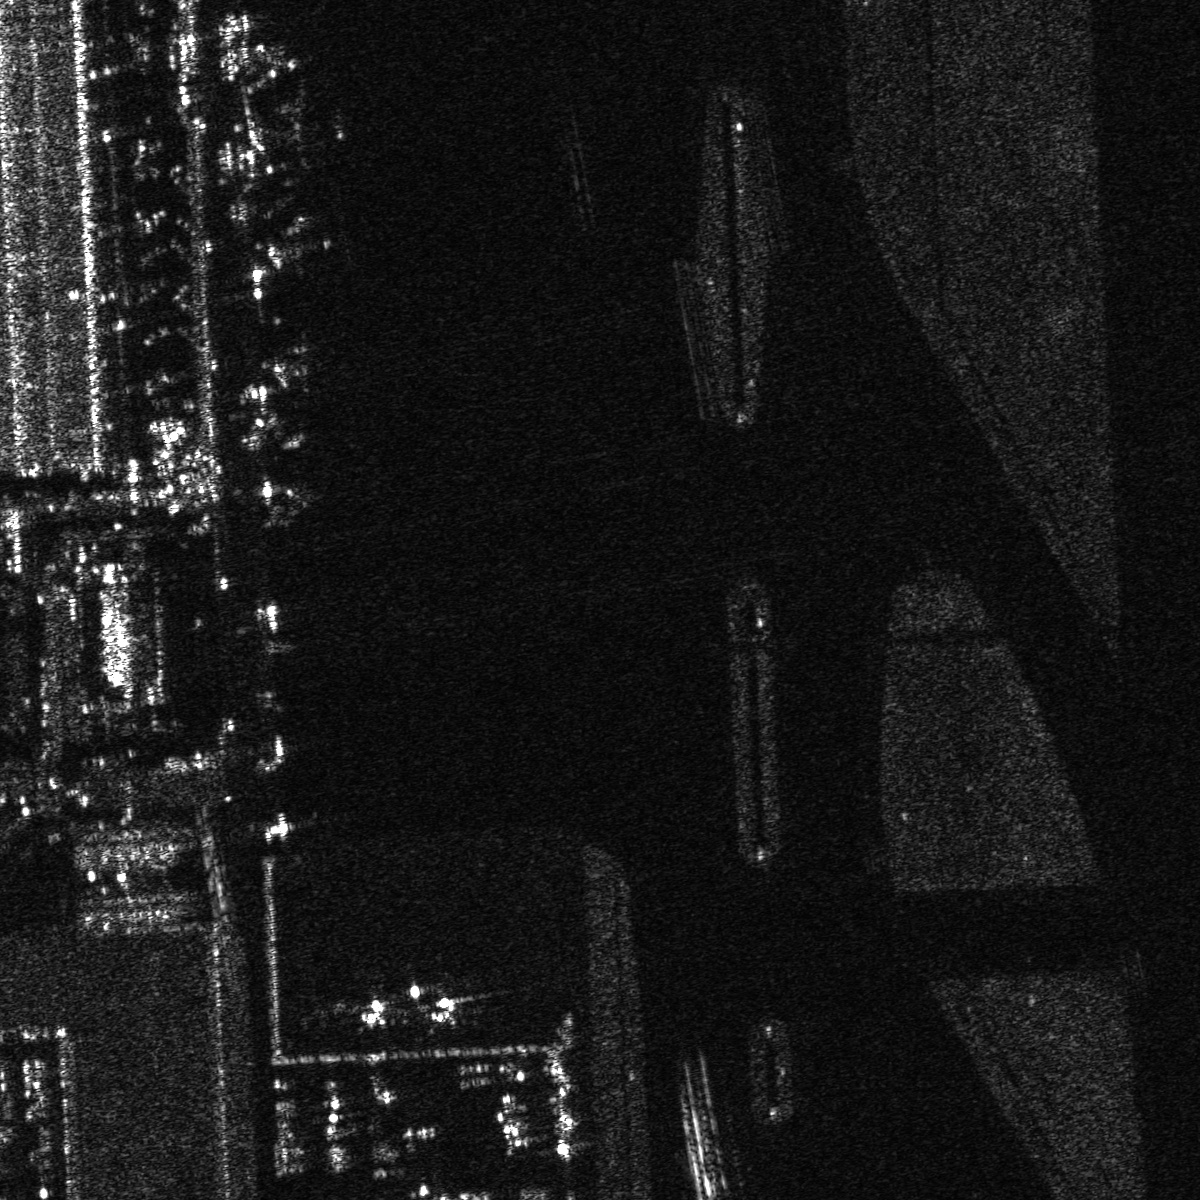A220: (245, 86, 352, 173)
ARJ21: (342, 979, 407, 1036)
other: (247, 205, 338, 273), (257, 327, 338, 393), (412, 982, 484, 1034)
